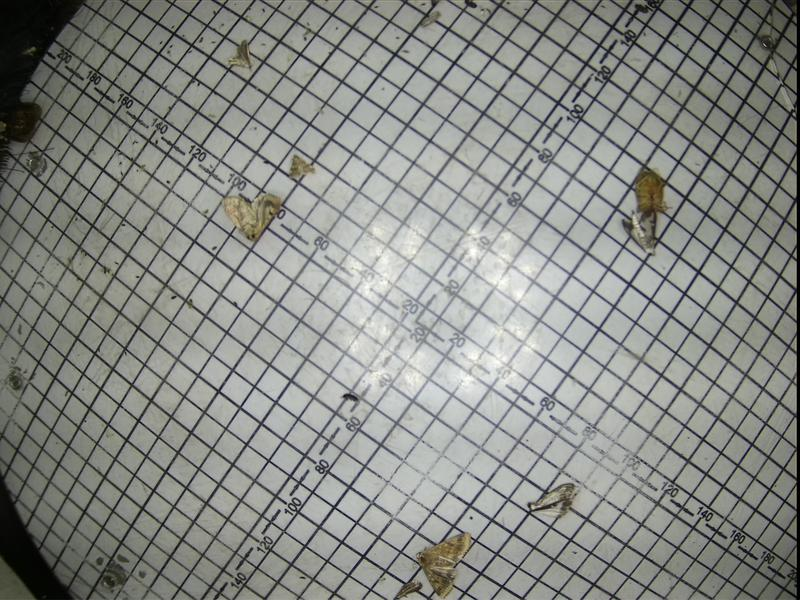Bollworm: (220, 189, 283, 243)
